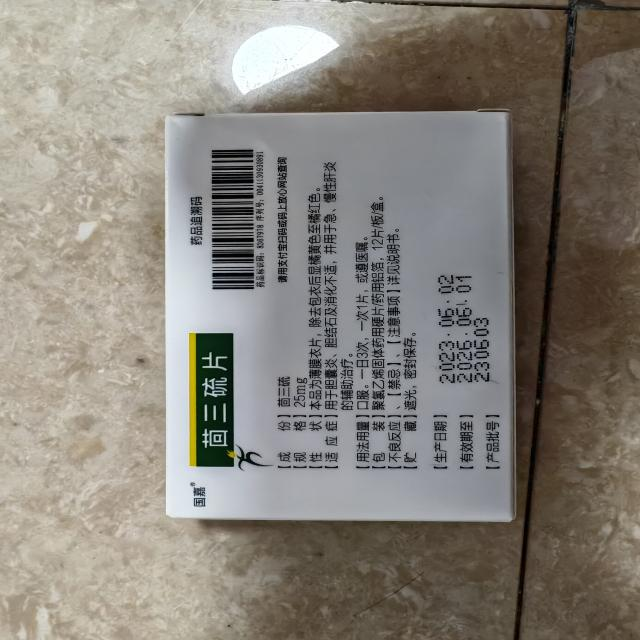box: (143, 103, 534, 536)
